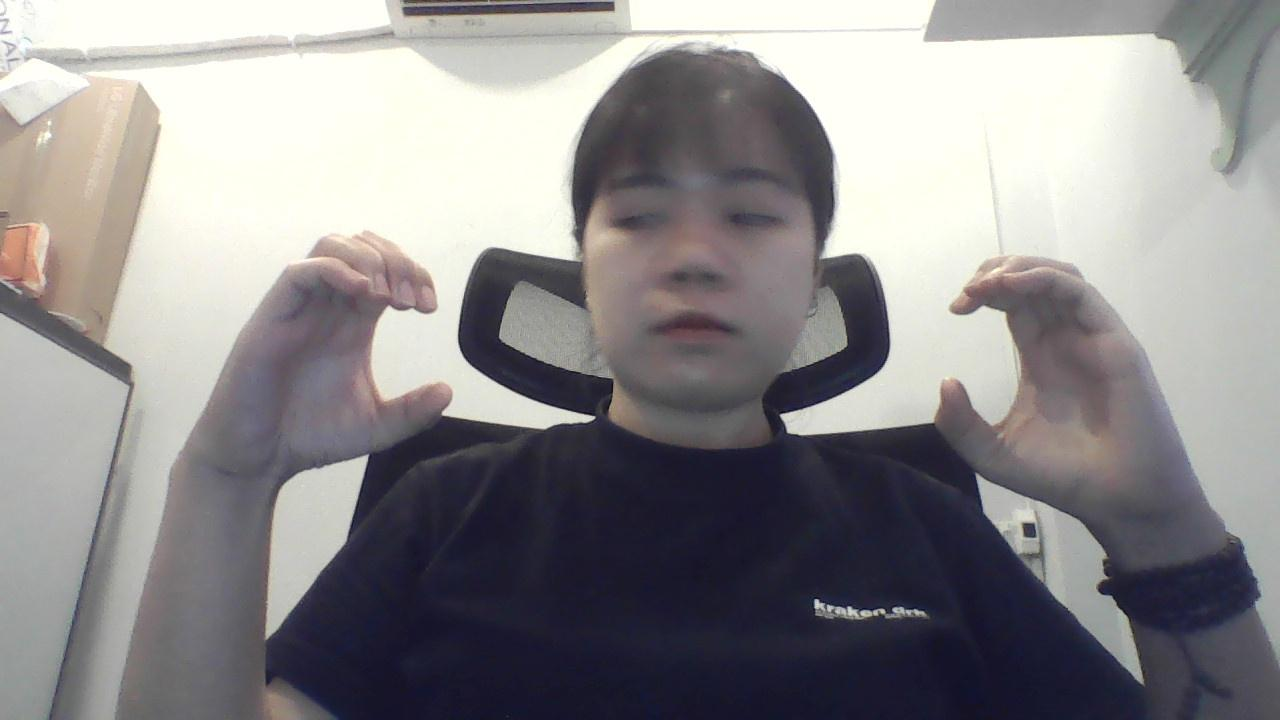C: (169, 207, 474, 496), (917, 237, 1201, 530)
